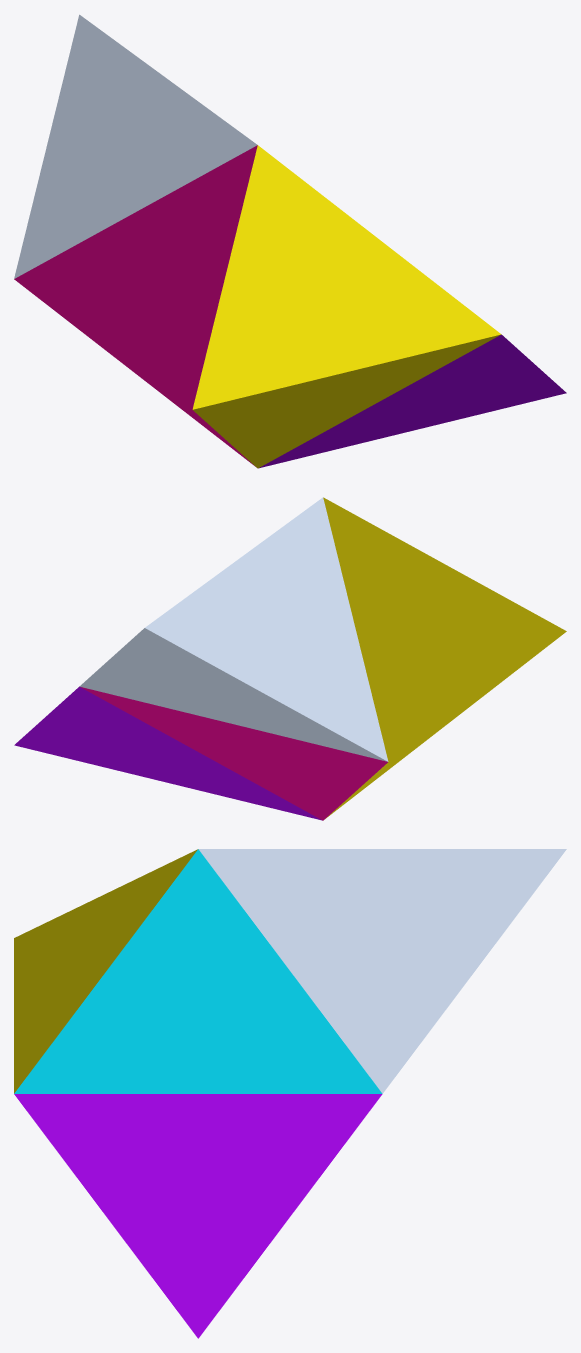
The model's file is TetragonalDisphenoidal_2.glb.
3 renders of one model, top to bottom at view 1: azimuth 30°, elevation 25°; view 2: azimuth 150°, elevation 25°; view 3: azimuth 270°, elevation 25°, orthographic. The views are drawn at different scales.
Size of the model in its own units: 6 by 4 by 6.
